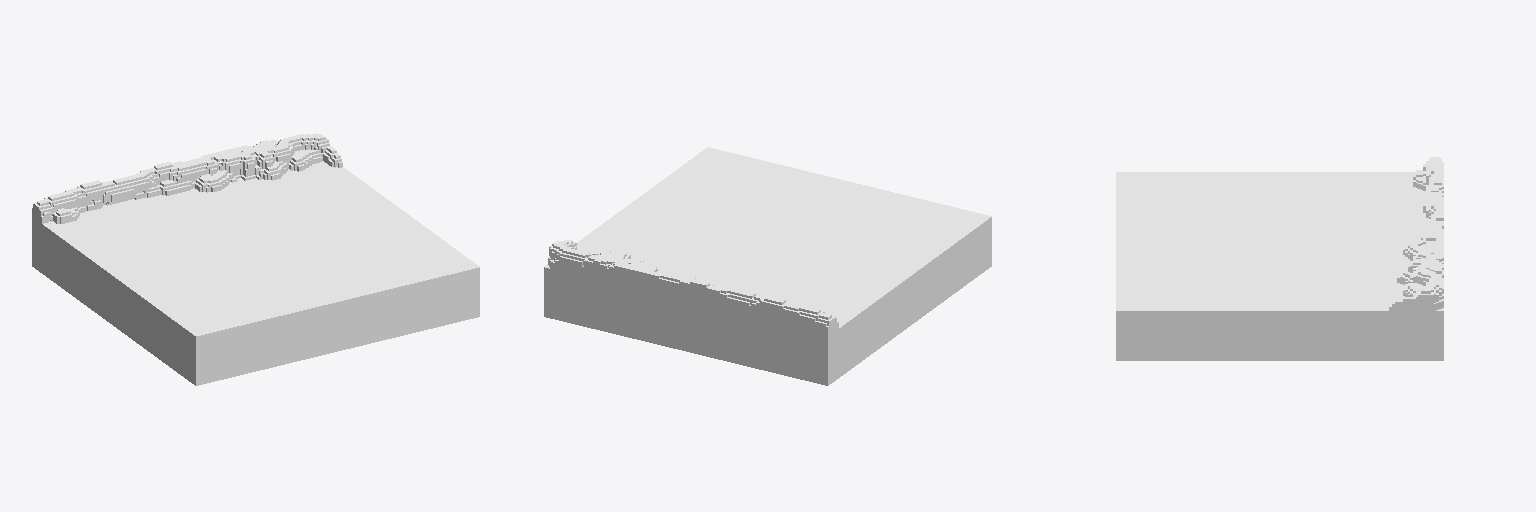
The model's file is Map_Field-2.obj.
3 renders of one model, left to right at view 1: azimuth 30°, elevation 25°; view 2: azimuth 150°, elevation 25°; view 3: azimuth 270°, elevation 25°, orthographic.
Parts seen in each view (by area): view 1: Map_Field-2; view 2: Map_Field-2; view 3: Map_Field-2.
Boxes of the visible parts, x1,y1,x2,y2 form: Map_Field-2: [32, 133, 479, 385]; Map_Field-2: [544, 147, 991, 385]; Map_Field-2: [1116, 157, 1443, 360].
Size of the model in its own units: 126 by 30 by 126.